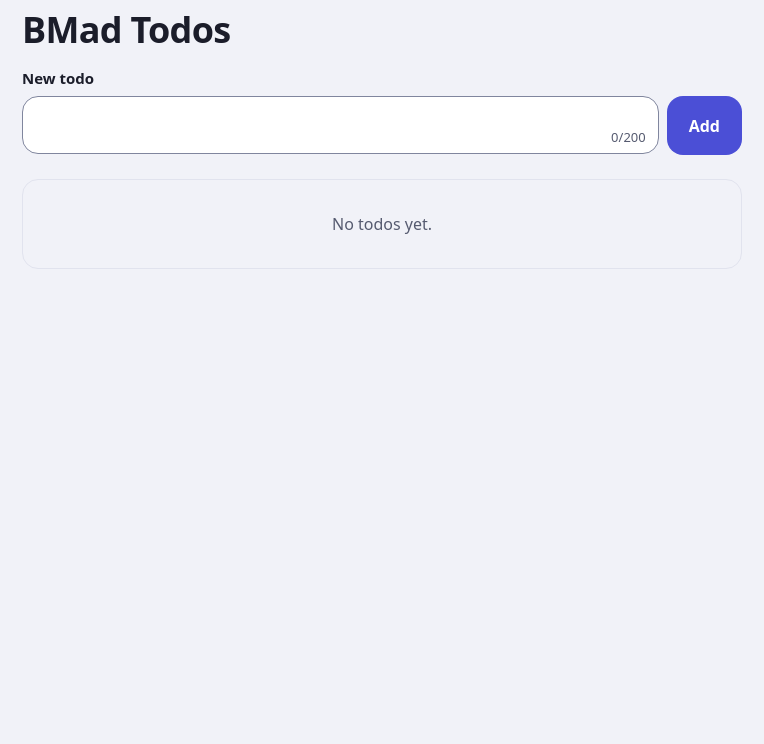
Scenario: AddForm › K1 submits with the Add button and sends the trimmed text
Type "  Call mum  " into the text box labelled "New todo" at (340, 113), box [23,97,658,129]
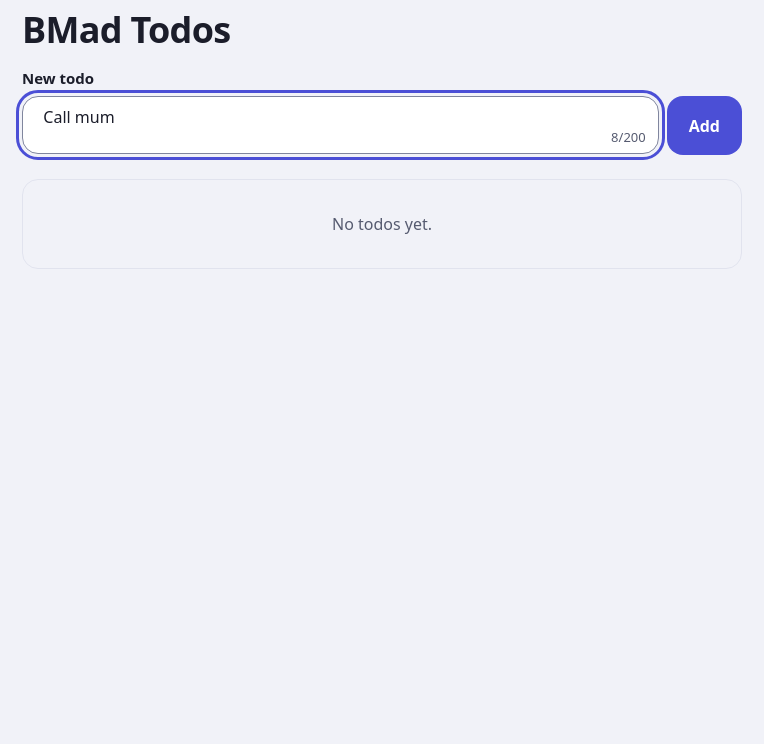
Click the button "Add" at (704, 126), box [667,96,742,155]
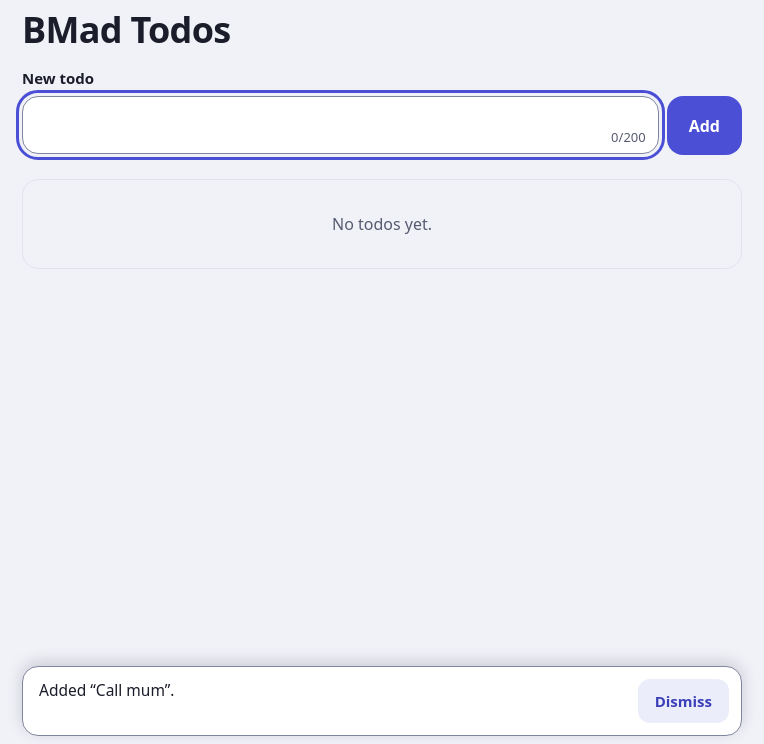
Expected: the text box labelled "New todo" is empty, [23,97,658,129]
